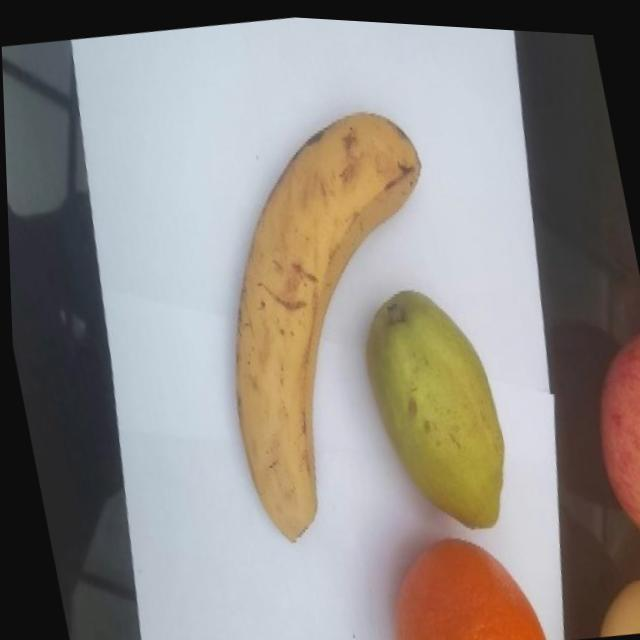Apple: (569, 315, 640, 557)
Banana: (180, 89, 488, 548)
Orange: (371, 516, 543, 640)
